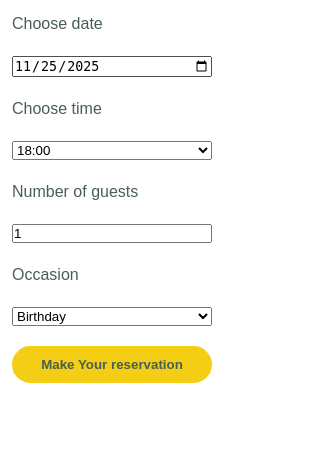
BookingForm › disables submit button if date is empty
Clear the date field labelled "Choose date" at (112, 67), box left=12, top=56, right=212, bottom=77
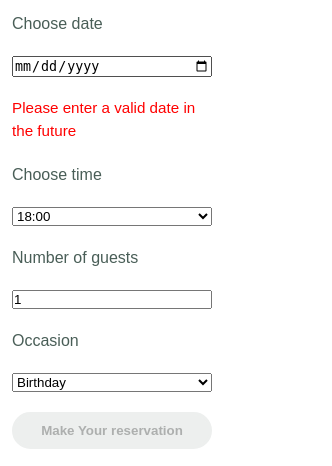
Now the button with aria-label "submit reservation" is disabled, box left=12, top=412, right=212, bottom=449
